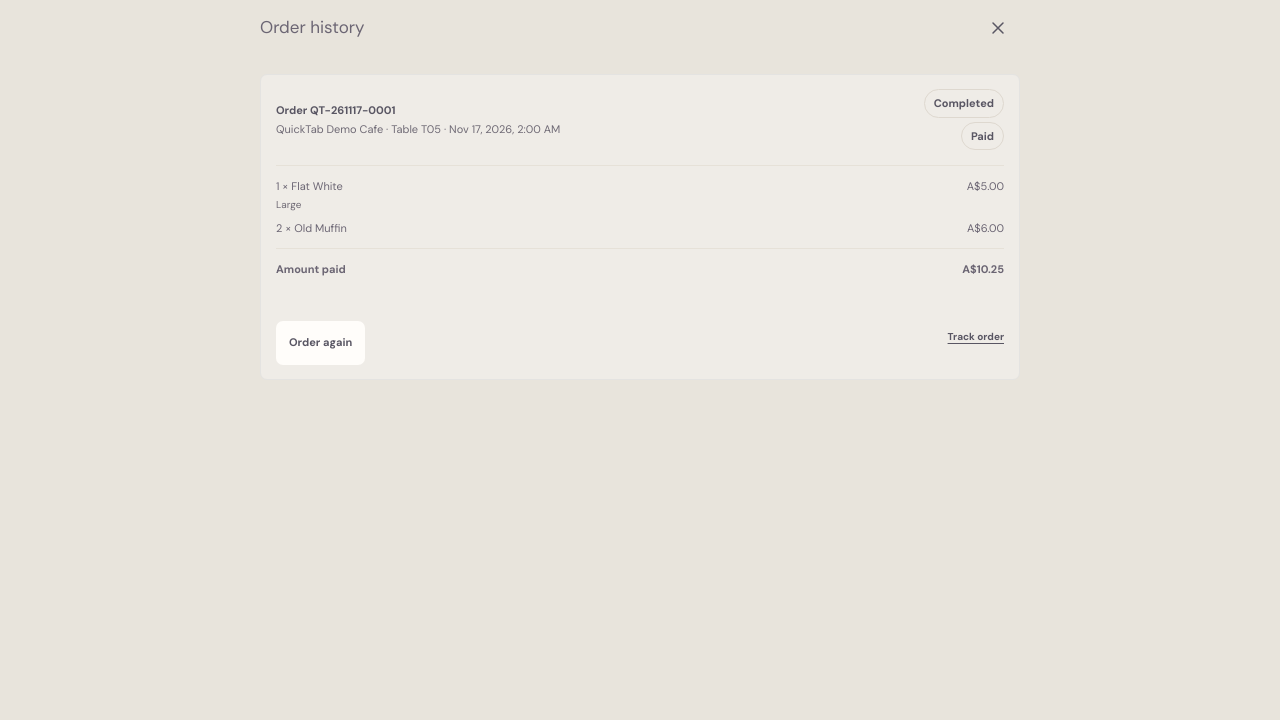
Scenario: OrdersScreen reorder › adds the available items to the cart and explains skipped ones
The width and height of the screenshot is (1280, 720).
Later steps or results of the test are not shown.
Expected: the text "Order QT-261117-0001" is shown, [276,102,396,116]
Click the button "Order again": (321, 342) [276,320,365,364]
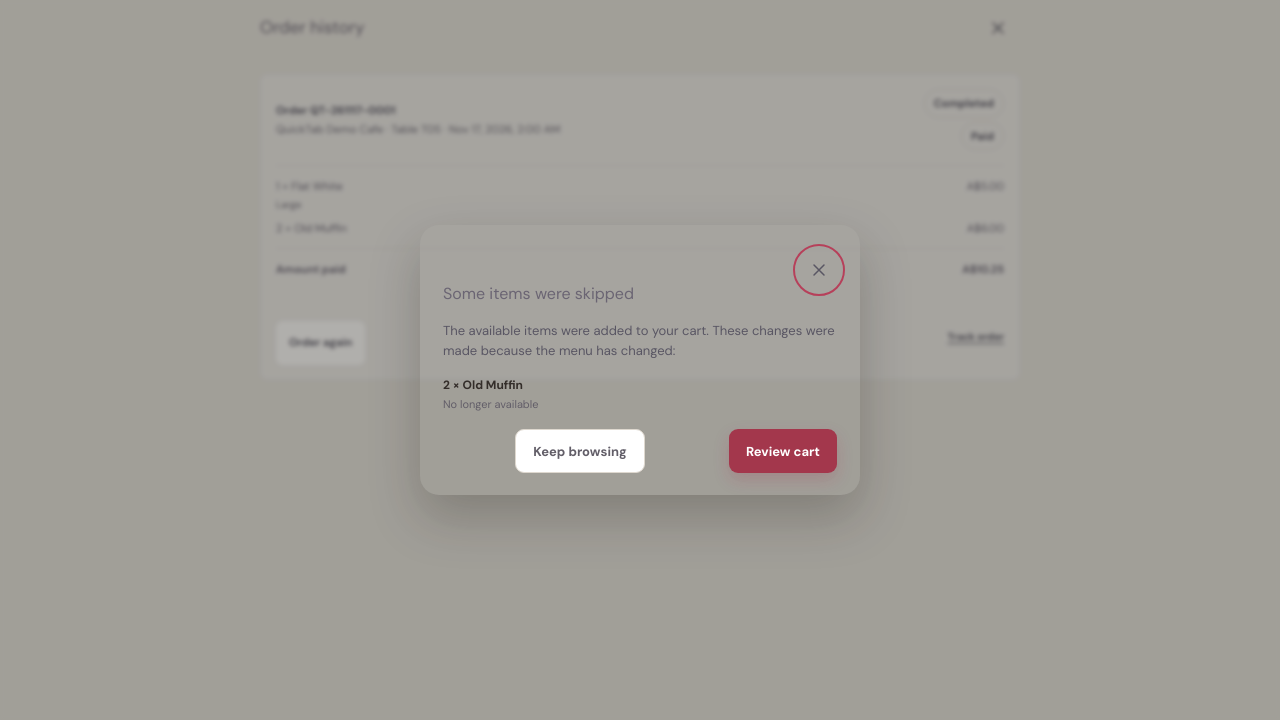
Result: the dialog named "Items skipped when reordering" shows "Old Muffin" at [462,377,523,393]
Result: the dialog named "Items skipped when reordering" shows "No longer available" at [443,397,538,411]
